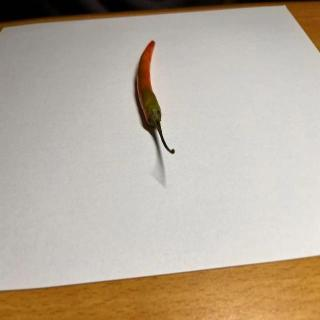Cabai Merah: (136, 41, 176, 155)
